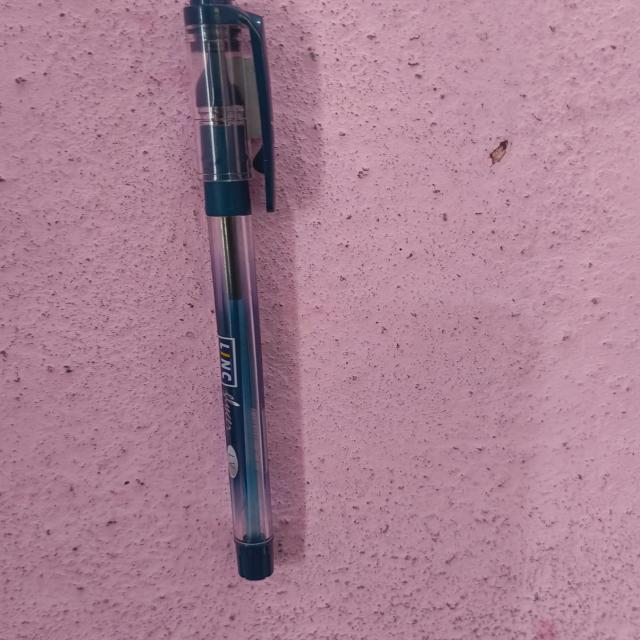blessing_card: (168, 0, 308, 592)
